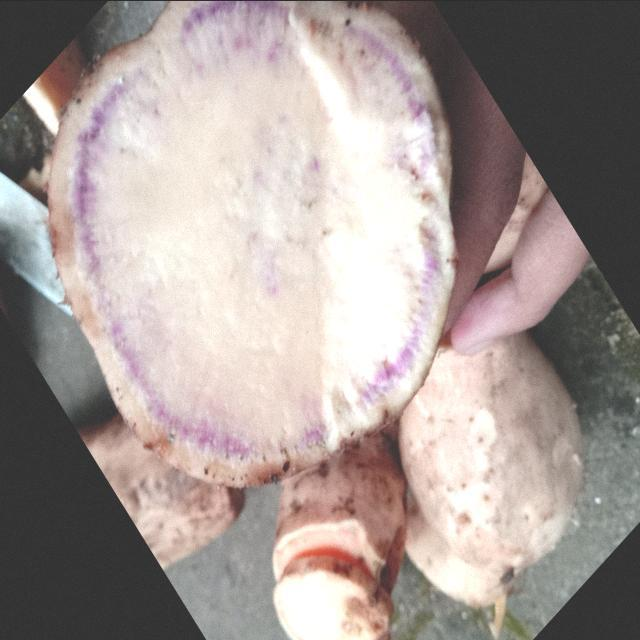Healthy Sweet Potato: (49, 2, 455, 485)
